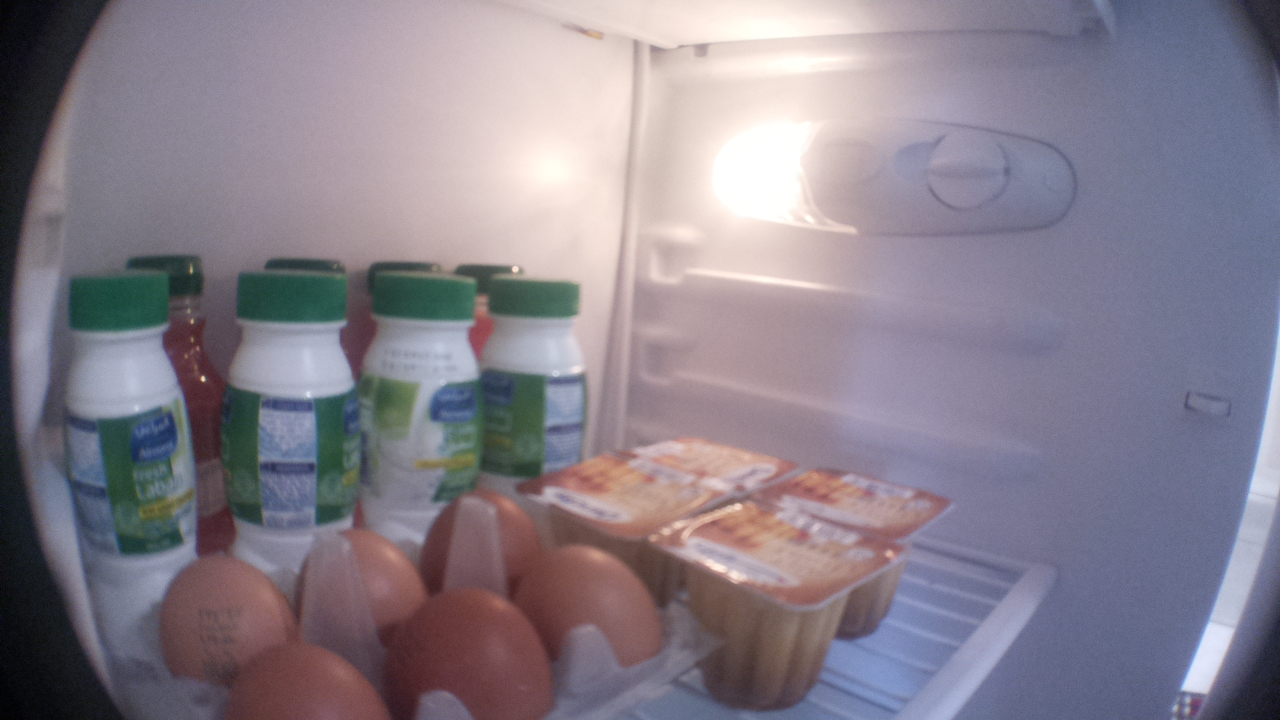caramel: (622, 497, 905, 713), (756, 463, 960, 546), (525, 454, 722, 536), (631, 430, 789, 494)
egg: (140, 547, 295, 681), (384, 592, 545, 720), (521, 543, 661, 679), (290, 521, 428, 629), (219, 645, 394, 720), (417, 486, 536, 587)
juice: (195, 246, 239, 557)
laban: (219, 266, 361, 560), (58, 269, 190, 585), (356, 270, 487, 541), (479, 273, 595, 475)
